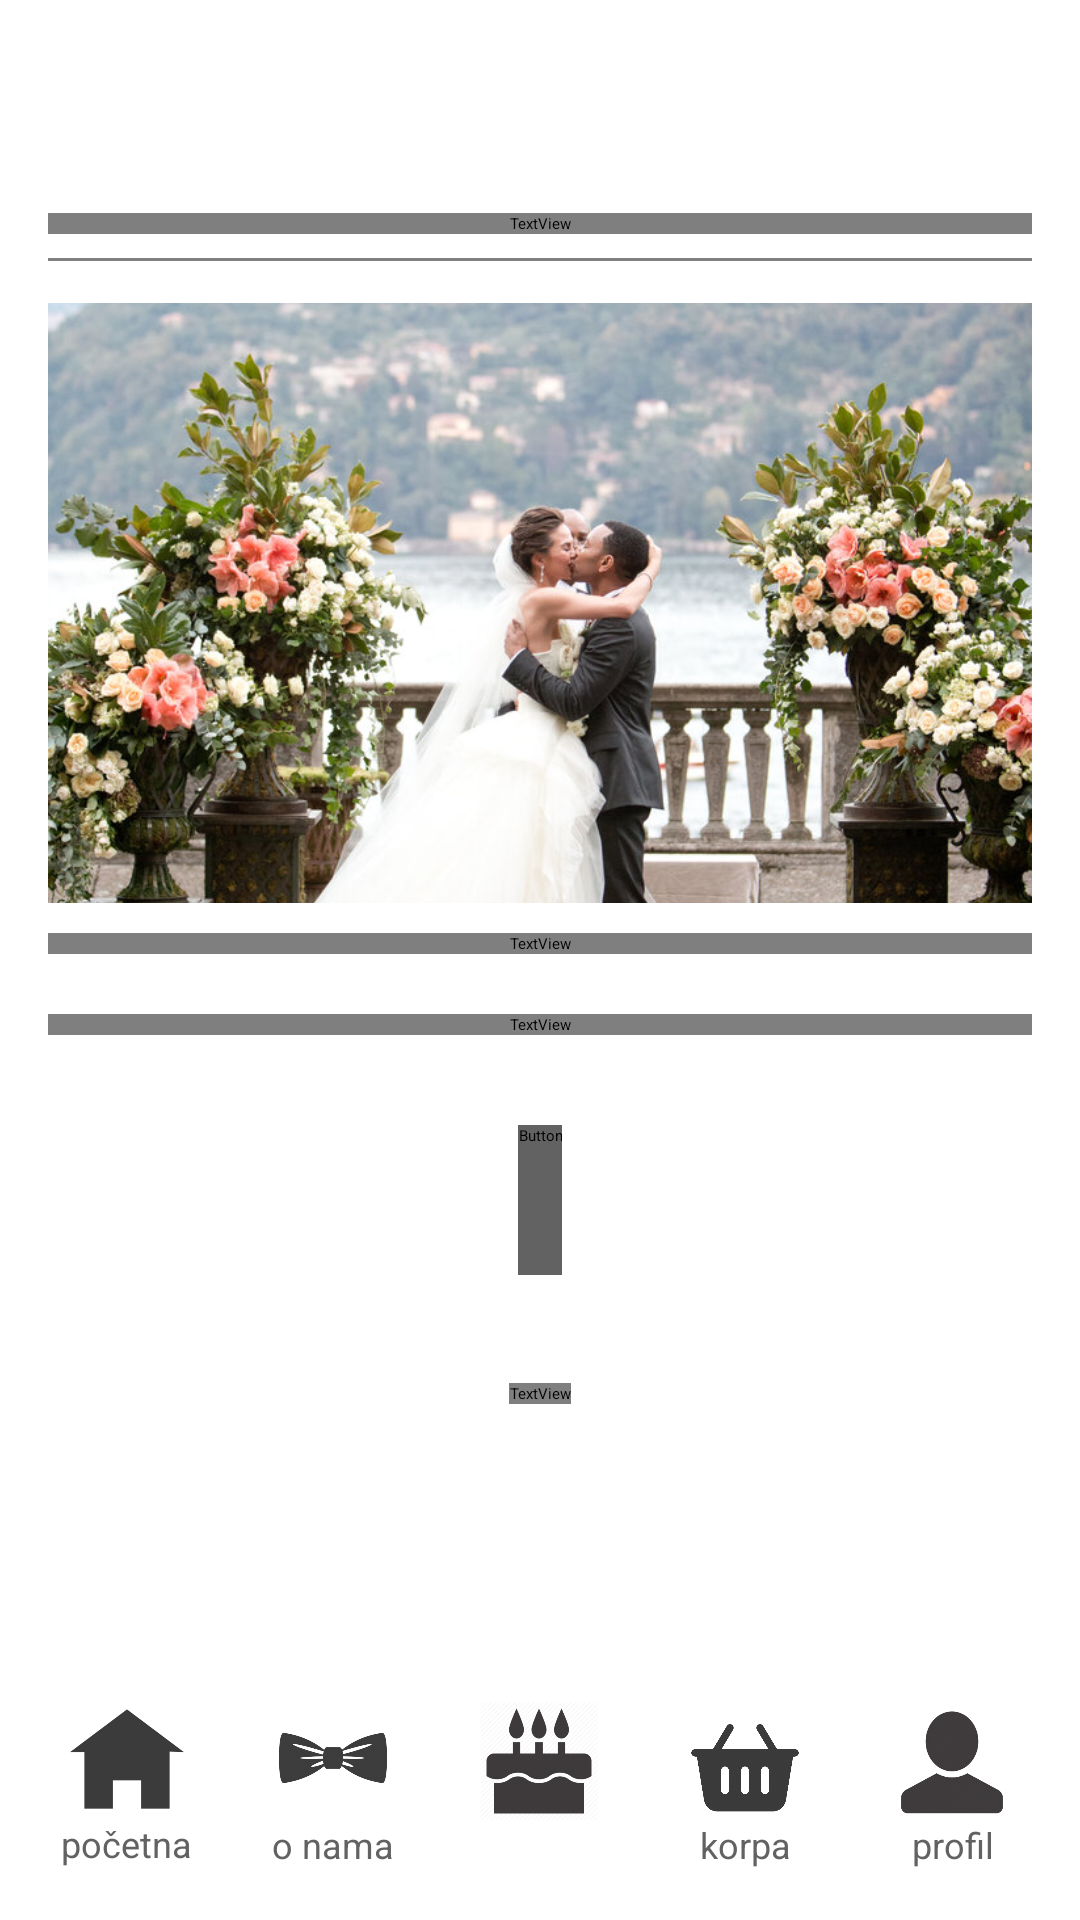

Locate icon controls on the screen. Image size 1080*1920, boxes as [left=x1, top=y1, right=x2, bottom=y2].
bow: [left=279, top=1733, right=387, bottom=1783]
cake: [left=486, top=1708, right=592, bottom=1814]
